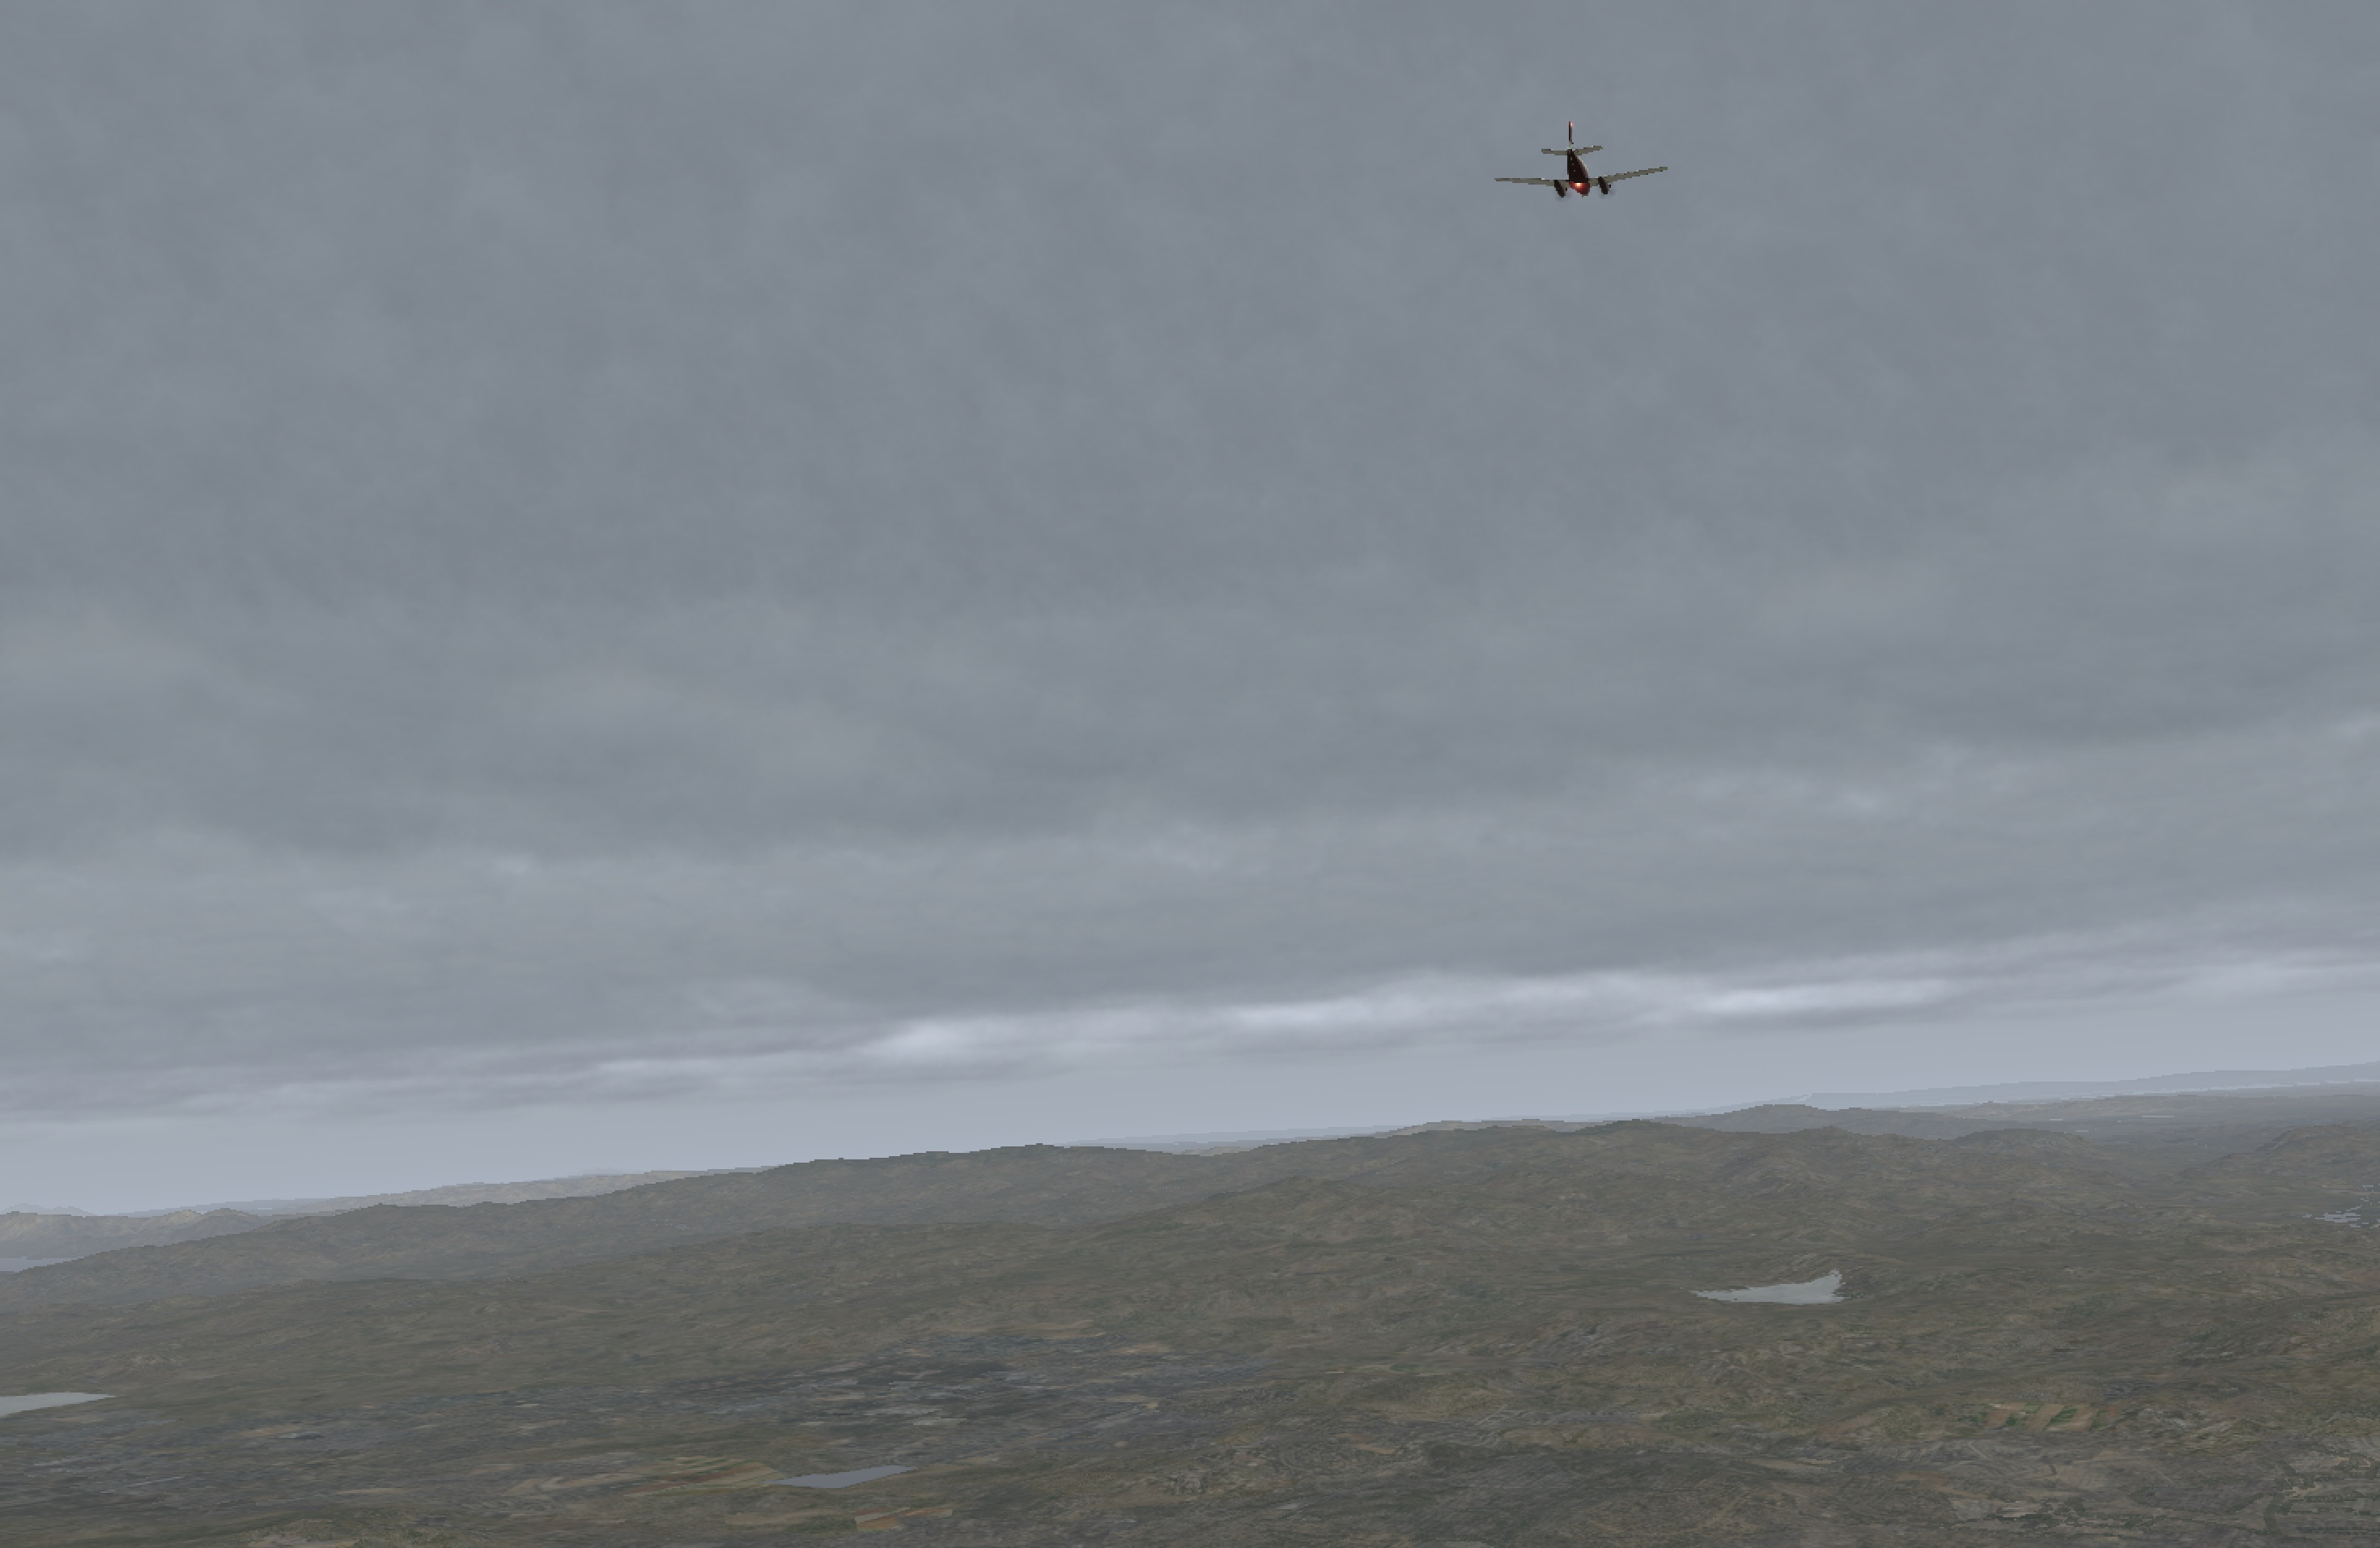aircraft: (1499, 154, 1664, 217)
